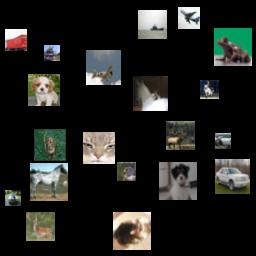airplane: (86, 50, 121, 85), (178, 7, 200, 29), (215, 133, 231, 149)
automobile: (215, 159, 250, 194), (5, 190, 21, 206)
bird: (117, 162, 136, 181)
cat: (113, 212, 151, 250), (83, 132, 115, 164)
deer: (166, 121, 195, 150), (26, 212, 55, 241)
dog: (159, 162, 197, 200), (28, 74, 60, 106), (34, 129, 66, 161)
frog: (214, 28, 252, 66)
ship: (138, 10, 167, 39)
truck: (5, 29, 27, 51), (44, 45, 60, 61)
